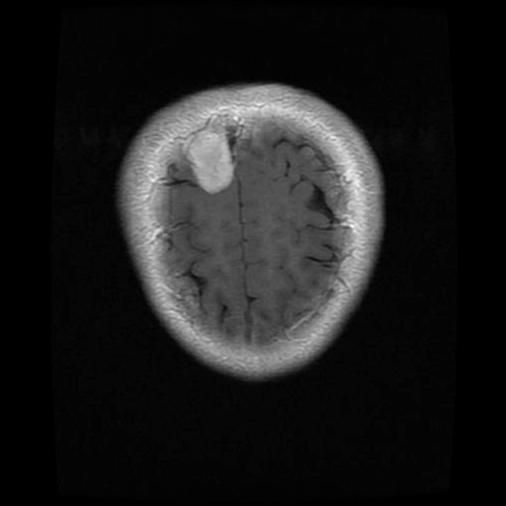Tumour-Meningioma: (183, 120, 238, 212)
